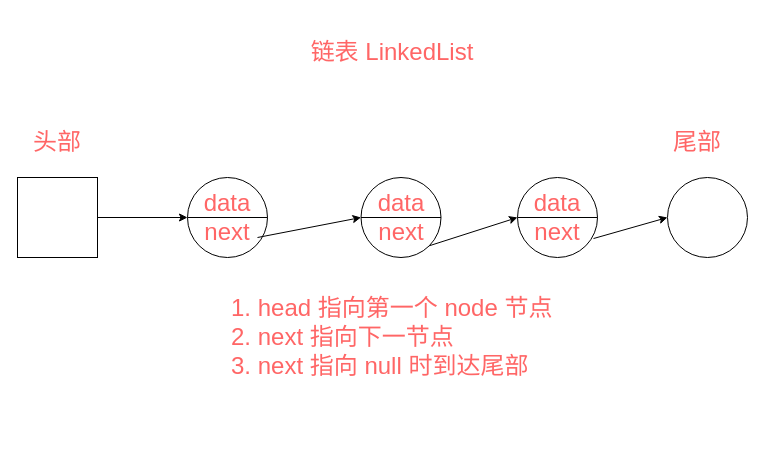
Some shapes in this 765 by 454 pixel diagram are drawn without their labels. The centre of each missing label's shape, as x and y in pixels:
head: the point at 57,217
null: the point at 707,217
